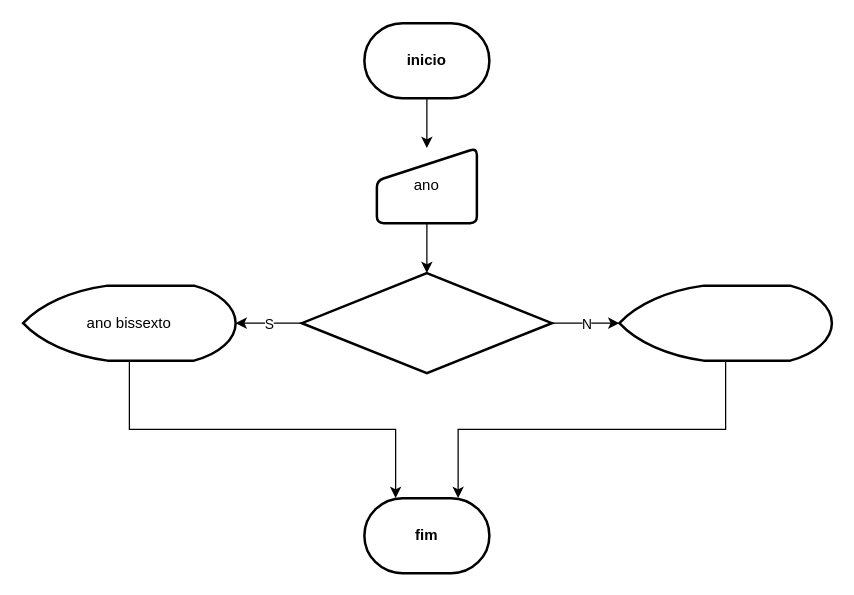
This 854x595 diagram has some shape labels left out. Here are the shapes that lost their labels. From the top down, the centre of each, then its label:
At [426,322]: "ano bissexto?".
At [725,322]: "ano nao bissexto".
